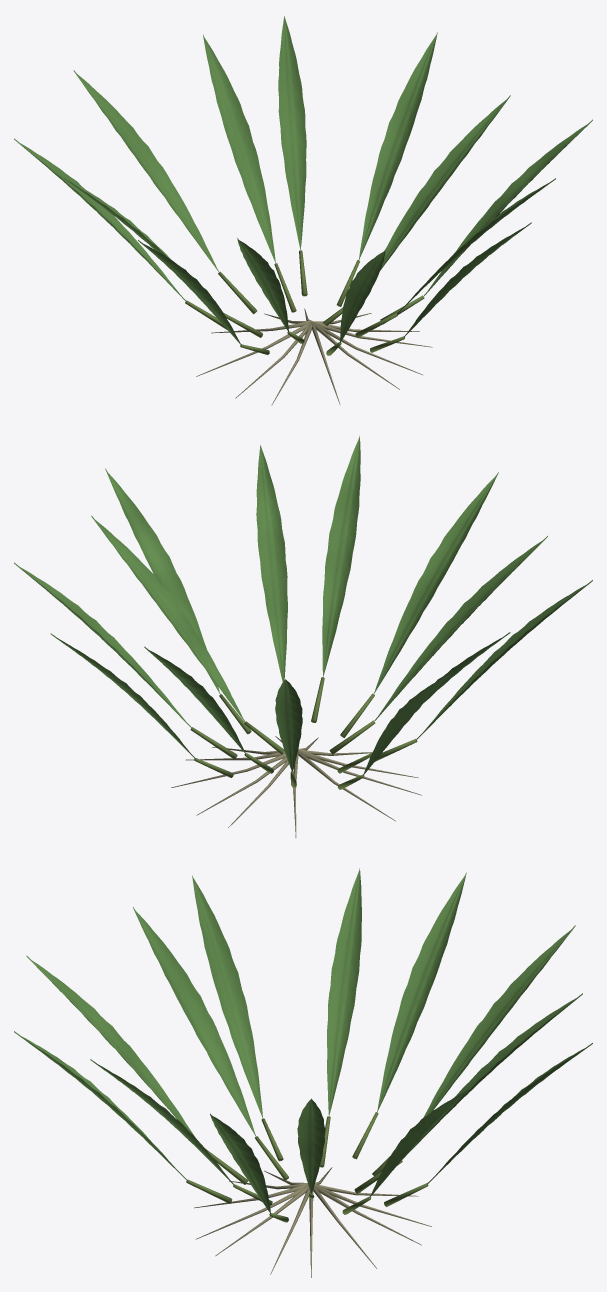
The model's file is cryptparva-desktop.glb.
3 renders of one model, top to bottom at view 1: azimuth 30°, elevation 25°; view 2: azimuth 150°, elevation 25°; view 3: azimuth 270°, elevation 25°, orthographic. The views are drawn at different scales.
Visible parts, largest first — view 1: blade, anchoring-root, petiole; view 2: blade, anchoring-root, petiole; view 3: blade, anchoring-root, petiole.
Boxes of the visible parts, box(x1,y1,x2,y2) form: blade: box(14, 16, 592, 345); anchoring-root: box(196, 308, 432, 405); petiole: box(185, 250, 424, 355); blade: box(14, 435, 592, 775); anchoring-root: box(171, 736, 421, 837); petiole: box(190, 677, 417, 789); blade: box(14, 868, 592, 1213); anchoring-root: box(194, 1167, 431, 1277); petiole: box(186, 1112, 428, 1222).
Bounding box in the file's own units: 0.56 × 0.2609 × 0.572.
